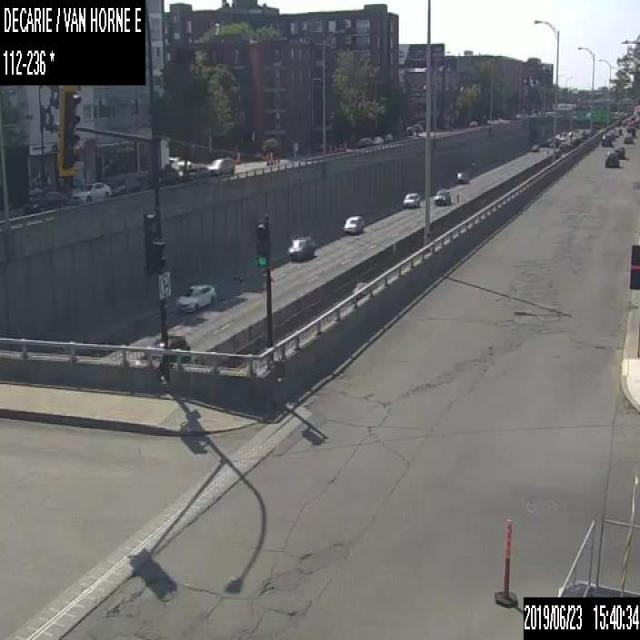construction: (492, 514, 520, 606), (269, 151, 272, 164), (266, 151, 268, 164)
vehicle: (141, 334, 189, 361), (177, 281, 214, 312), (26, 189, 66, 211), (72, 181, 113, 200), (286, 235, 314, 260), (204, 154, 236, 174), (342, 214, 364, 234), (168, 156, 191, 173), (401, 189, 420, 207), (434, 188, 450, 207), (604, 150, 618, 167), (355, 136, 371, 145), (601, 132, 611, 146), (456, 170, 467, 182), (615, 145, 625, 158), (625, 125, 635, 137), (371, 135, 383, 144), (606, 128, 614, 140), (412, 122, 422, 131), (611, 126, 619, 136), (624, 133, 632, 143), (384, 132, 391, 143), (468, 119, 478, 126), (530, 142, 538, 150), (407, 125, 413, 134), (619, 126, 622, 133)
